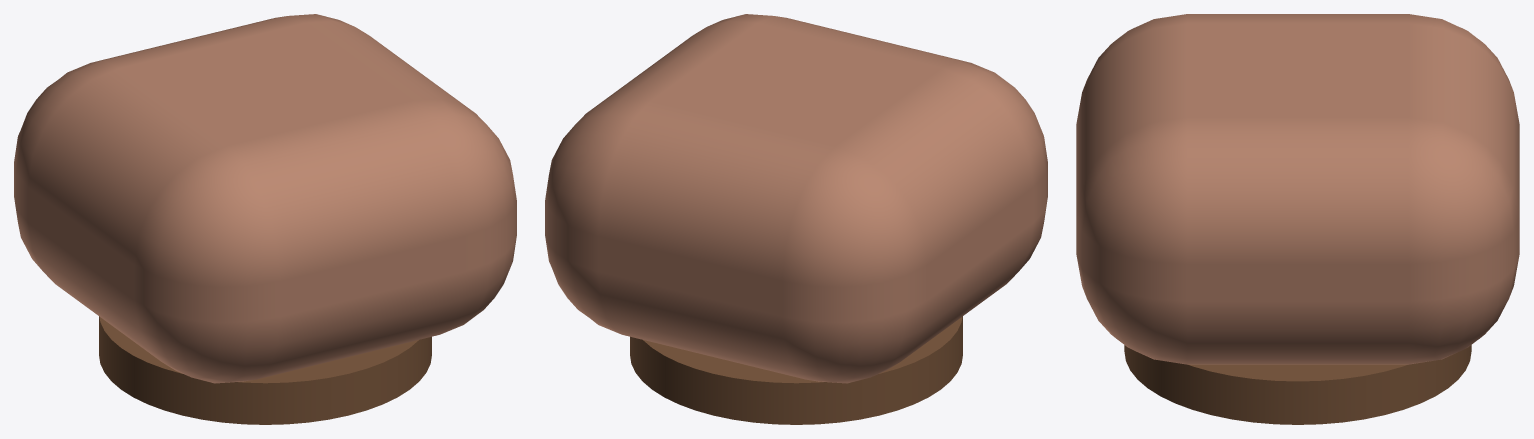
File: pebble-stool-clay.glb
3 renders of one model, left to right at view 1: azimuth 30°, elevation 25°; view 2: azimuth 150°, elevation 25°; view 3: azimuth 270°, elevation 25°, orthographic. The views are drawn at different scales.
Visible parts, largest first — view 1: The Pebble Ottoman — Clay; view 2: The Pebble Ottoman — Clay; view 3: The Pebble Ottoman — Clay.
Part boxes in pixels (x1=…): The Pebble Ottoman — Clay: x1=14, y1=14, x2=516, y2=424; The Pebble Ottoman — Clay: x1=545, y1=14, x2=1047, y2=424; The Pebble Ottoman — Clay: x1=1076, y1=14, x2=1519, y2=424.
Bounding box in the file's own units: 0.6 × 0.42 × 0.6.
